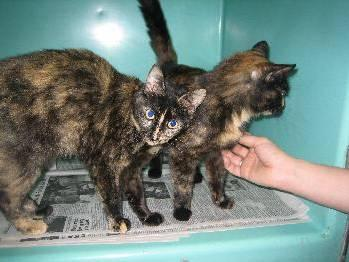cat: (0, 0, 295, 233)
